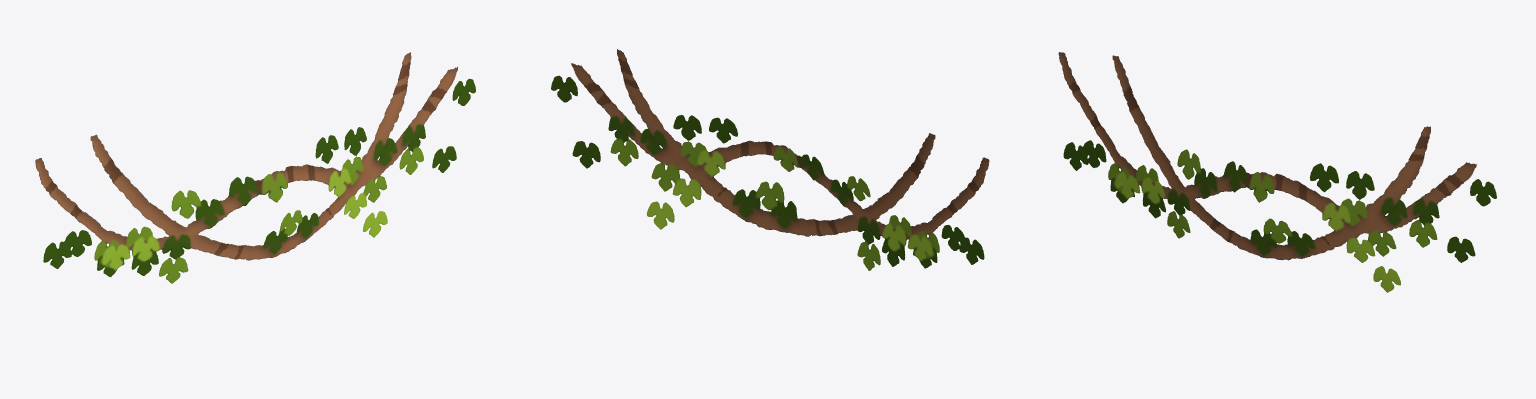
Rendered from sp_veg_ivy_07.fbx.
3 renders of one model, left to right at view 1: azimuth 30°, elevation 25°; view 2: azimuth 150°, elevation 25°; view 3: azimuth 330°, elevation 25°, orthographic.
Parts seen in each view (by area): view 1: veg_ivy_07; view 2: veg_ivy_07; view 3: veg_ivy_07.
Part boxes in pixels (x1,y1,x2,y2): veg_ivy_07: (35, 52, 475, 283); veg_ivy_07: (551, 49, 989, 270); veg_ivy_07: (1058, 52, 1496, 292).
Bounding box in the file's own units: 100 × 50 × 8.
